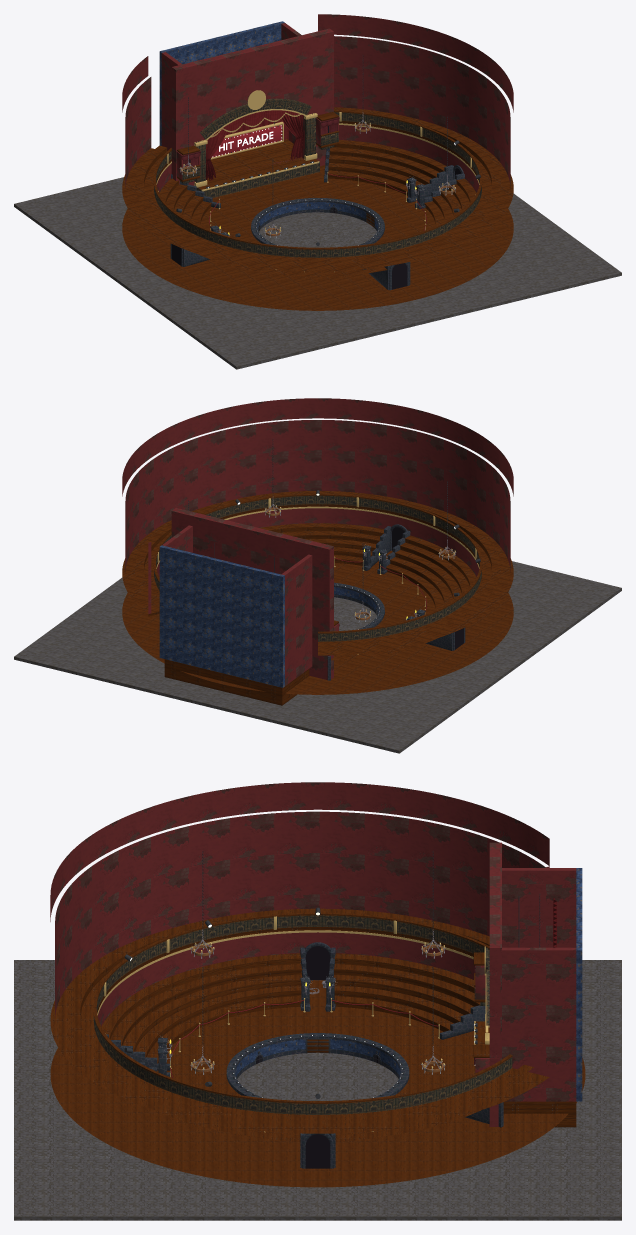
File: rust_theater.glb
3 views of the same model, one above another, from view 1: azimuth 30°, elevation 25°; view 2: azimuth 150°, elevation 25°; view 3: azimuth 270°, elevation 25° (orthographic). The views are drawn at different scales.
Parts seen in each view (by area): view 1: rust_theater_set; view 2: rust_theater_set; view 3: rust_theater_set.
Part boxes in pixels (x1,y1,x2,y2): rust_theater_set: (14, 14, 621, 369); rust_theater_set: (14, 398, 621, 753); rust_theater_set: (14, 782, 621, 1220).
Size of the model in its own units: 40 by 14.3 by 40.
20 materials, 11 textured.
